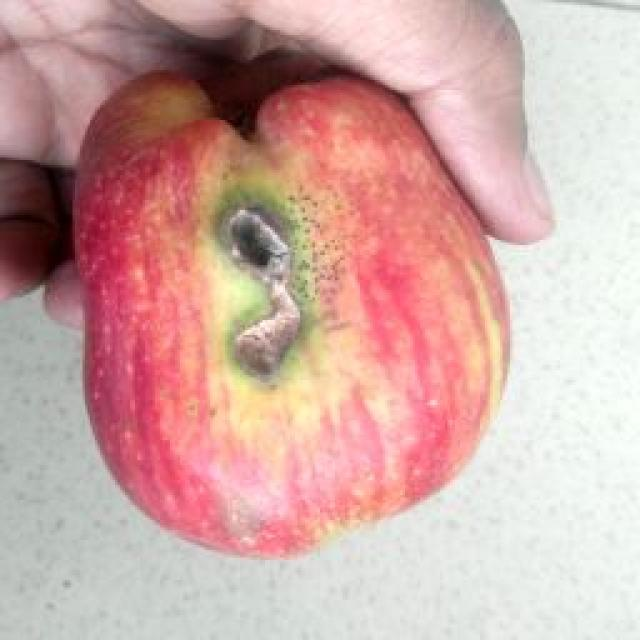Bad_Apple: (75, 61, 506, 556)
